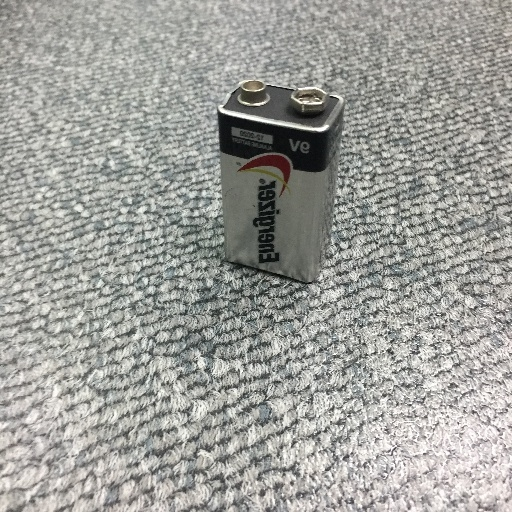Battery_3: (195, 65, 369, 298)
